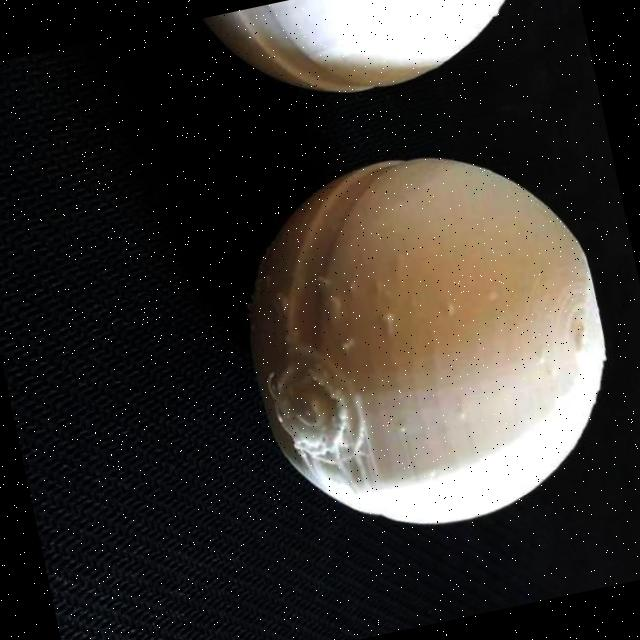blobs: (320, 292, 345, 318), (270, 294, 294, 316), (335, 334, 358, 356), (379, 310, 399, 328), (440, 305, 459, 322), (533, 351, 549, 371), (344, 282, 362, 296), (282, 332, 296, 348), (395, 424, 408, 437)
